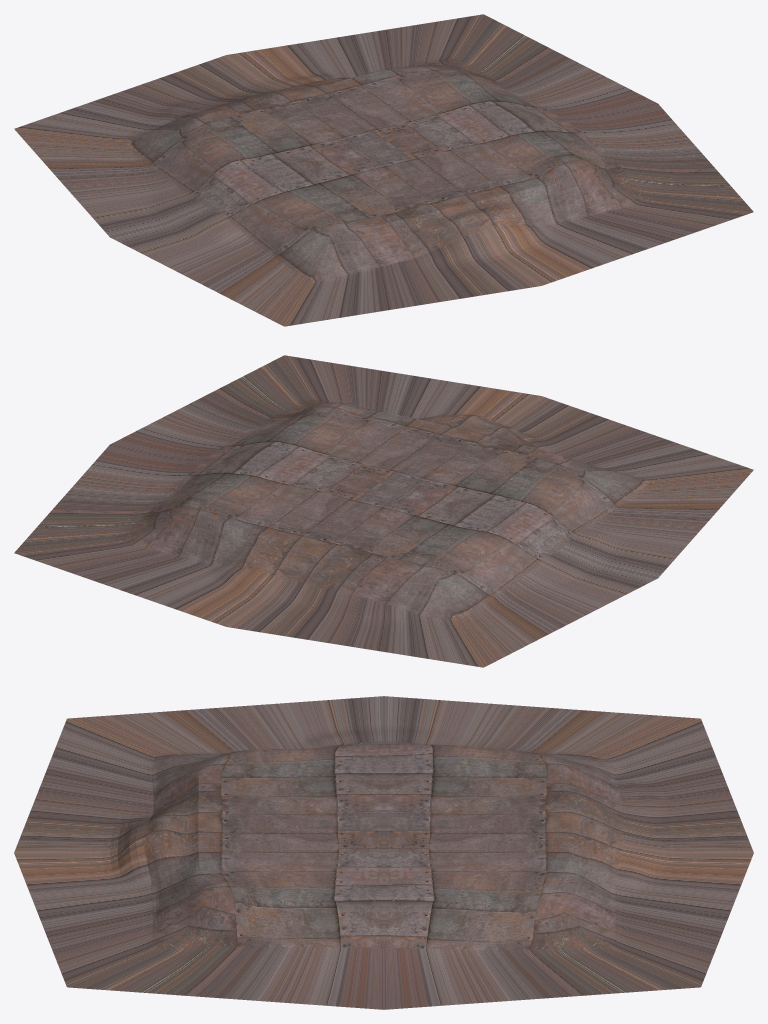
The model's file is SM_LDFest_23_01.fbx.
3 renders of one model, top to bottom at view 1: azimuth 30°, elevation 25°; view 2: azimuth 150°, elevation 25°; view 3: azimuth 270°, elevation 25°, orthographic. The views are drawn at different scales.
Visible parts, largest first — view 1: SM_LDFest_23_01; view 2: SM_LDFest_23_01; view 3: SM_LDFest_23_01.
Boxes of the visible parts, x1,y1,x2,y2 form: SM_LDFest_23_01: (14, 14, 753, 326); SM_LDFest_23_01: (14, 355, 753, 667); SM_LDFest_23_01: (14, 696, 753, 1009).
Bounding box in the file's own units: 4262 × 204 × 4248.
